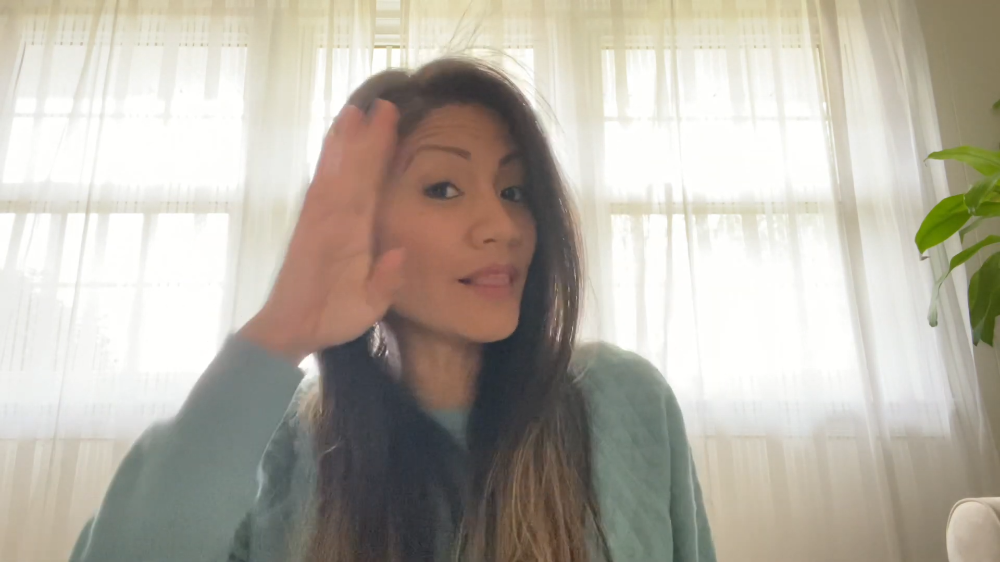hello: (288, 95, 414, 344)
